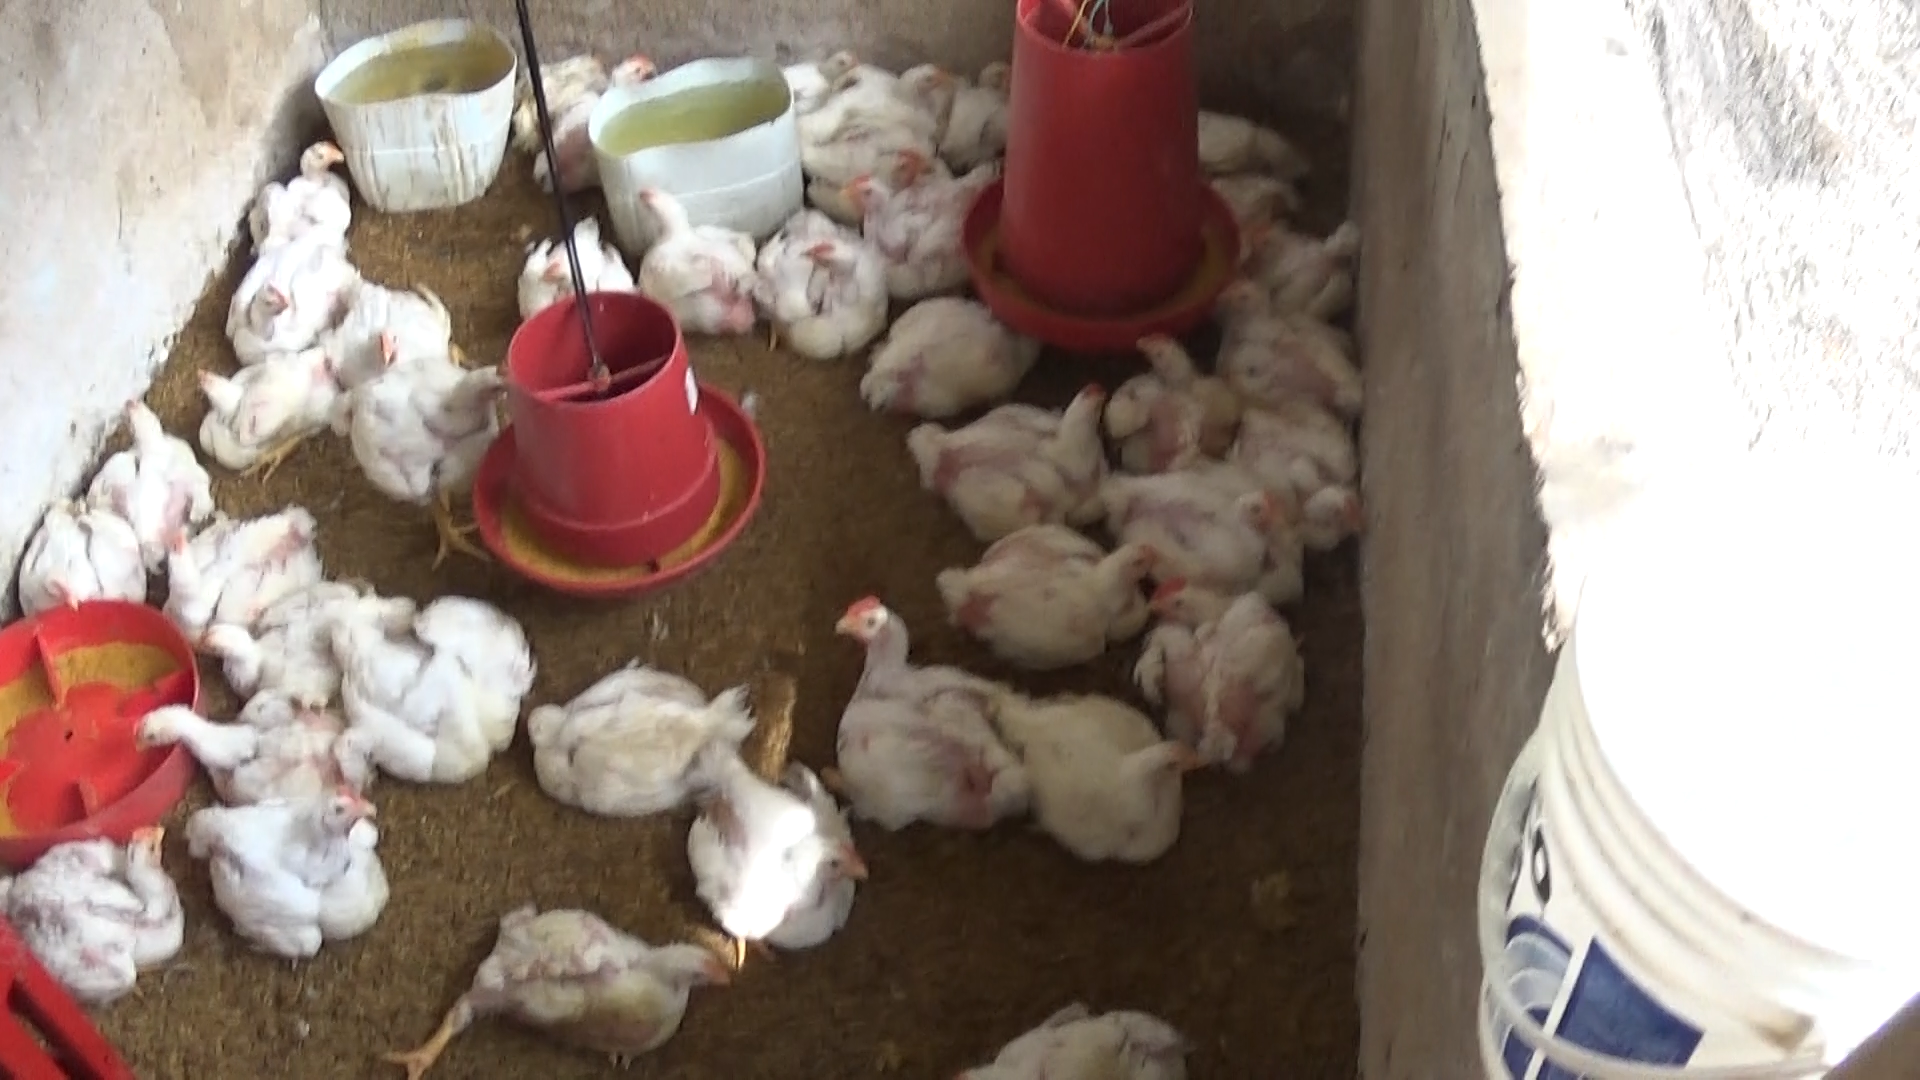Pollos: (367, 902, 752, 1073), (827, 589, 1025, 839), (173, 771, 394, 972), (521, 659, 764, 828), (680, 737, 862, 957), (934, 513, 1180, 667), (997, 683, 1189, 876), (1127, 576, 1300, 789), (345, 592, 535, 785), (3, 822, 191, 1013), (342, 357, 512, 560), (897, 371, 1114, 524), (1077, 469, 1296, 607), (127, 696, 353, 822), (154, 498, 336, 644), (1203, 276, 1367, 427), (851, 295, 1051, 419), (798, 53, 961, 204), (1196, 419, 1377, 554), (737, 204, 890, 359), (191, 601, 375, 728), (530, 46, 680, 200), (1105, 328, 1244, 488), (629, 179, 756, 351), (208, 216, 351, 367), (179, 345, 336, 477), (825, 174, 971, 295), (88, 392, 222, 522), (11, 491, 154, 611), (502, 214, 640, 316), (326, 273, 462, 372), (1238, 211, 1374, 309), (227, 142, 360, 239), (502, 33, 607, 138), (889, 142, 1001, 219), (778, 40, 861, 107)
